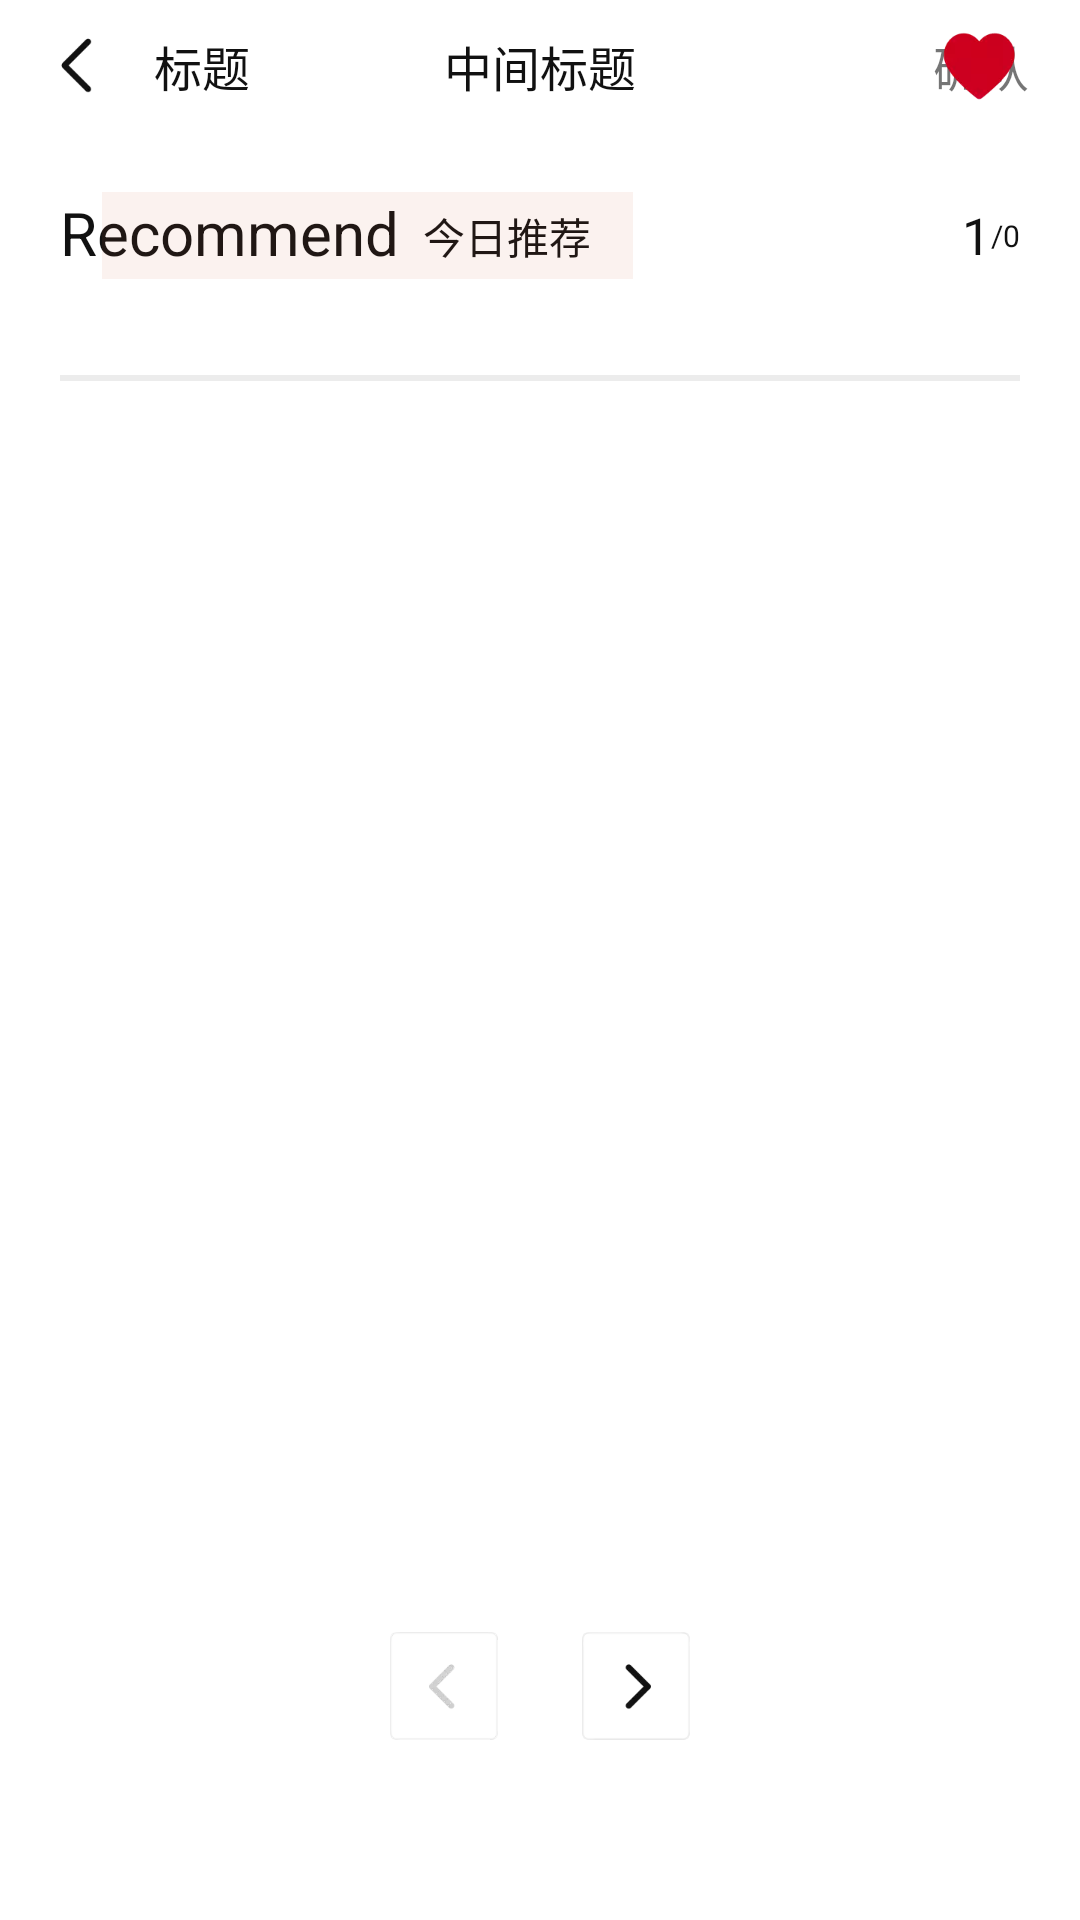

Where to tap for icons on this 1080w x 1920h app screen, as [x,y]:
back: [76,65]
left unselect: [441,1686]
right select: [638,1686]
